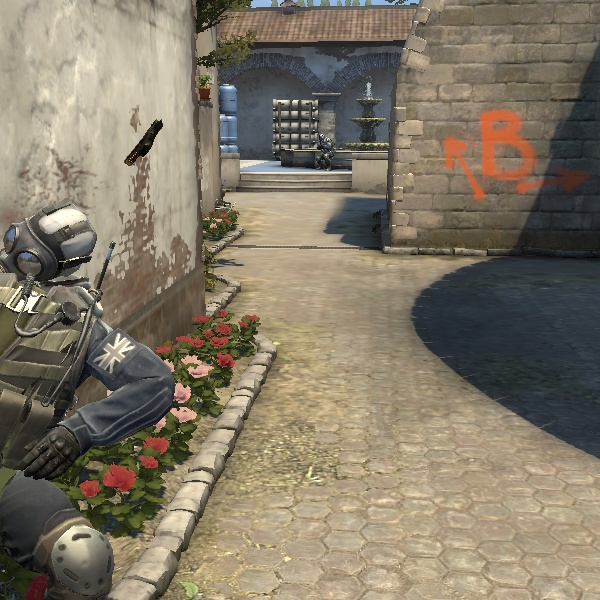ct_body: (200, 192, 245, 274)
